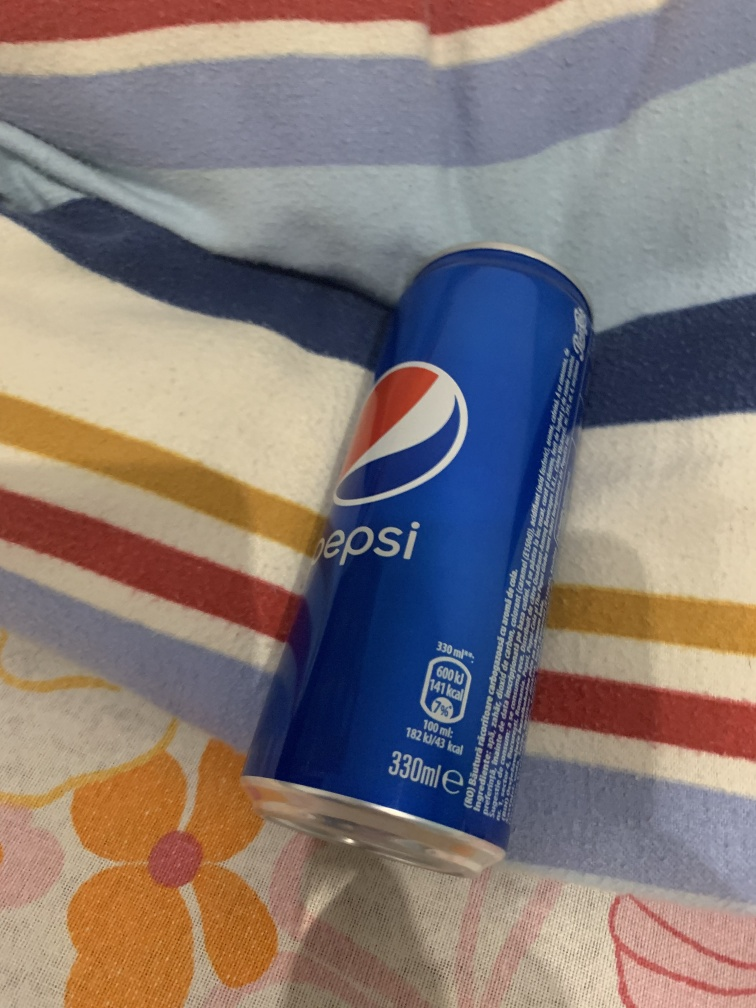pepsi: (217, 232, 604, 898)
